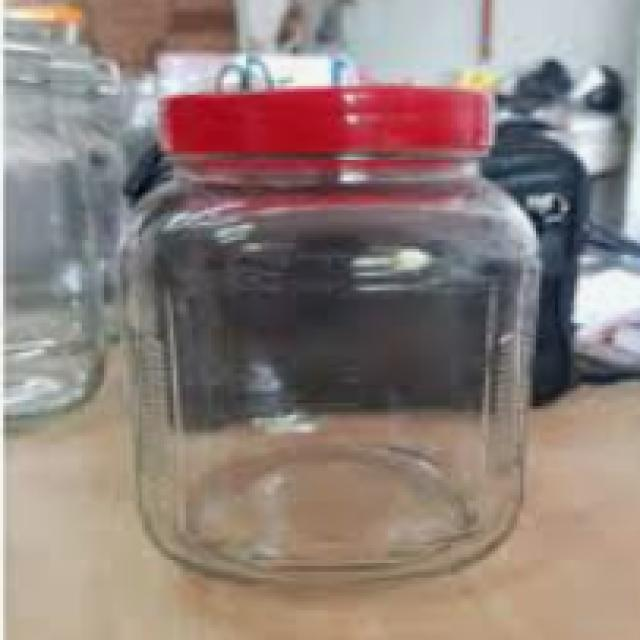ToplesKaca: (117, 59, 542, 584)
